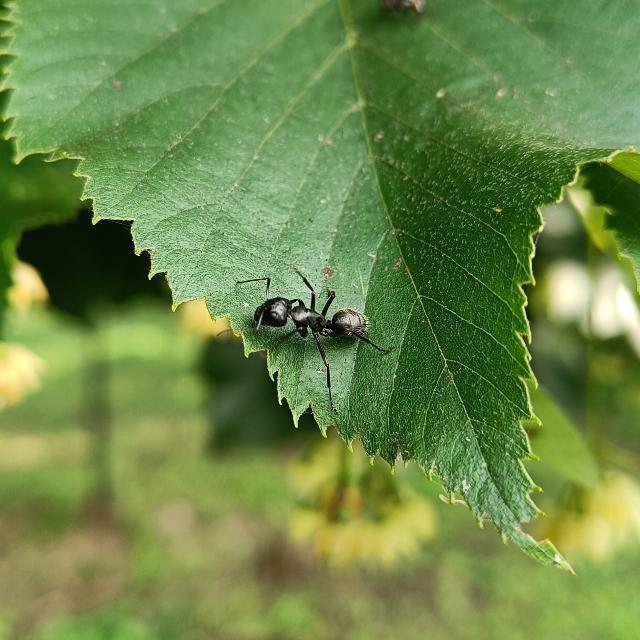Camponotus: (232, 258, 394, 368)
